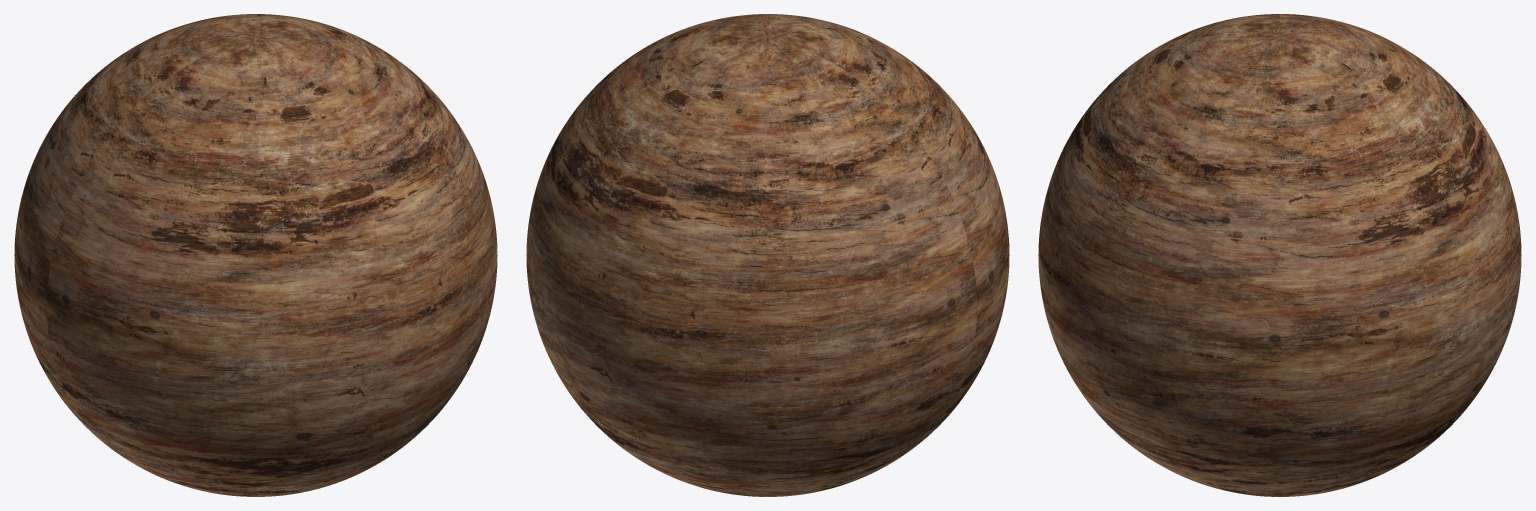
File: rustic_wood_material_1.glb
The picture shows the model from 3 angles, left to right: view 1: azimuth 30°, elevation 25°; view 2: azimuth 150°, elevation 25°; view 3: azimuth 270°, elevation 25°; orthographic projection.
Parts seen in each view (by area): view 1: Sphere; view 2: Sphere; view 3: Sphere.
Part boxes in pixels (left/top/right/bottom): Sphere: left=14, top=14, right=497, bottom=496; Sphere: left=526, top=14, right=1009, bottom=496; Sphere: left=1038, top=14, right=1521, bottom=496.
Bounding box in the file's own units: 200 × 200 × 200.
1 material, 1 textured.
